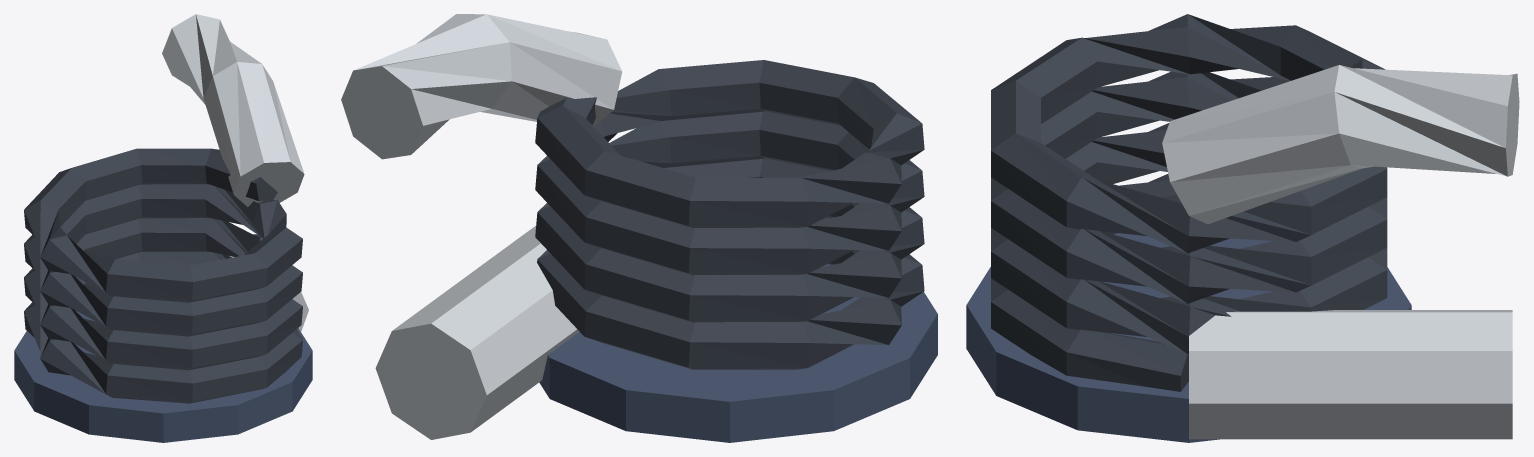
Rendered from coiled_cable.glb.
The picture shows the model from 3 angles, left to right: view 1: azimuth 30°, elevation 25°; view 2: azimuth 150°, elevation 25°; view 3: azimuth 270°, elevation 25°; orthographic projection. The views are drawn at different scales.
Parts seen in each view (by area): view 1: DL016_CoiledCable_rubber_dark, DL016_CoiledCable_titanium, DL016_CoiledCable_graphite_navy; view 2: DL016_CoiledCable_rubber_dark, DL016_CoiledCable_titanium, DL016_CoiledCable_graphite_navy; view 3: DL016_CoiledCable_rubber_dark, DL016_CoiledCable_titanium, DL016_CoiledCable_graphite_navy.
Part boxes in pixels (x1,y1,x2,y2): DL016_CoiledCable_rubber_dark: [24, 148, 302, 403]; DL016_CoiledCable_titanium: [162, 14, 308, 331]; DL016_CoiledCable_graphite_navy: [14, 311, 312, 442]; DL016_CoiledCable_rubber_dark: [535, 60, 924, 369]; DL016_CoiledCable_titanium: [341, 14, 622, 439]; DL016_CoiledCable_graphite_navy: [539, 264, 937, 442]; DL016_CoiledCable_rubber_dark: [991, 14, 1387, 391]; DL016_CoiledCable_titanium: [1162, 65, 1519, 439]; DL016_CoiledCable_graphite_navy: [966, 233, 1411, 442].
Size of the model in its own units: 1.28 by 1.06 by 1.37.
